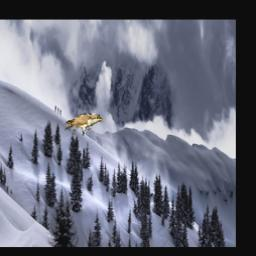Cuckoo: (65, 113, 103, 136)
